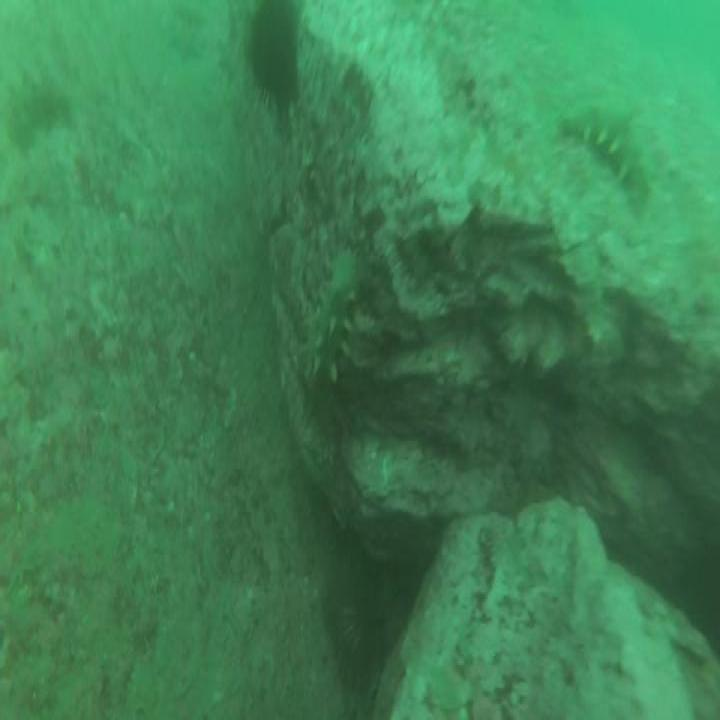echinus: (244, 0, 300, 112)
holothurian: (561, 96, 654, 217), (298, 240, 366, 393), (8, 64, 73, 160)
